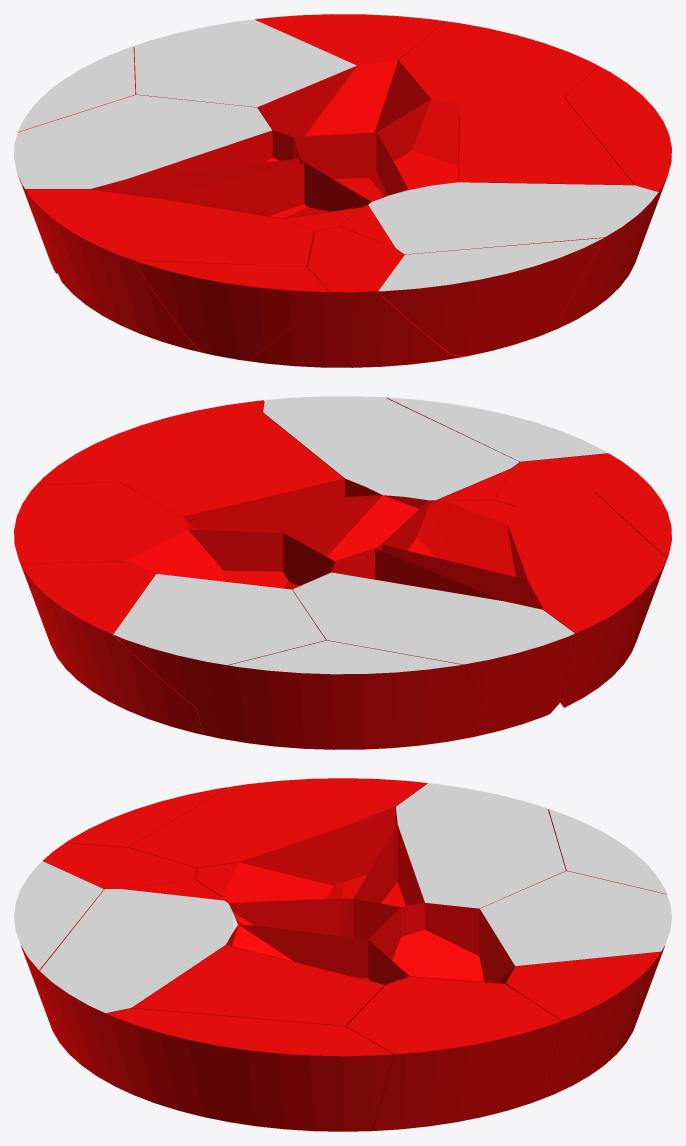
The model's file is Board_Red_F.dae.
3 renders of one model, top to bottom at view 1: azimuth 30°, elevation 25°; view 2: azimuth 150°, elevation 25°; view 3: azimuth 270°, elevation 25°, orthographic.
Parts seen in each view (by area): view 1: Board_Red_cell.019, Board_Red_cell.017, Board_Red_cell.002, Board_Red_cell.008, Board_Red_cell.009, Board_Red_cell.026, Board_Red_cell.018, Board_Red_cell.023, Board_Red_cell.004, Board_Red_cell.014, Board_Red_cell.012, Board_Red_cell.006 (+8 smaller); view 2: Board_Red_cell.021, Board_Red_cell.008, Board_Red_cell.019, Board_Red_cell.026, Board_Red_cell.017, Board_Red_cell.005, Board_Red_cell.023, Board_Red_cell.004, Board_Red_cell.014, Board_Red_cell.012, Board_Red_cell.006, Board_Red_cell.002 (+8 smaller); view 3: Board_Red_cell.012, Board_Red_cell.004, Board_Red_cell.017, Board_Red_cell.008, Board_Red_cell.019, Board_Red_cell.026, Board_Red_cell.023, Board_Red_cell.005, Board_Red_cell.014, Board_Red_cell.006, Board_Red_cell.002, Board_Red_cell (+8 smaller).
Part boxes in pixels (box(x1,y1,x2,y2)): Board_Red_cell.019: box(25, 189, 314, 352); Board_Red_cell.017: box(368, 182, 658, 331); Board_Red_cell.002: box(378, 238, 603, 356); Board_Red_cell.008: box(14, 94, 272, 272); Board_Red_cell.009: box(247, 226, 451, 367); Board_Red_cell.026: box(134, 19, 356, 107); Board_Red_cell.018: box(134, 260, 328, 360); Board_Red_cell.023: box(458, 98, 633, 185); Board_Red_cell.004: box(398, 21, 598, 125); Board_Red_cell.014: box(257, 60, 430, 137); Board_Red_cell.012: box(565, 66, 671, 287); Board_Red_cell.006: box(159, 163, 370, 218); Board_Red_cell.021: box(196, 640, 494, 749); Board_Red_cell.008: box(292, 572, 574, 731); Board_Red_cell.019: box(508, 492, 666, 707); Board_Red_cell.026: box(113, 574, 325, 707); Board_Red_cell.017: box(263, 396, 519, 500); Board_Red_cell.005: box(21, 561, 204, 734); Board_Red_cell.023: box(119, 413, 343, 517); Board_Red_cell.004: box(14, 482, 188, 650); Board_Red_cell.014: box(126, 530, 334, 589); Board_Red_cell.012: box(36, 400, 264, 485); Board_Red_cell.006: box(382, 500, 526, 580); Board_Red_cell.002: box(386, 397, 608, 462); Board_Red_cell.012: box(106, 1008, 393, 1131); Board_Red_cell.004: box(346, 976, 561, 1130); Board_Red_cell.017: box(40, 889, 237, 1084); Board_Red_cell.008: box(396, 783, 565, 908); Board_Red_cell.019: box(128, 778, 427, 882); Board_Red_cell.026: box(479, 871, 671, 966); Board_Red_cell.023: box(132, 945, 384, 1025); Board_Red_cell.005: box(505, 952, 661, 1098); Board_Red_cell.014: box(369, 903, 514, 983); Board_Red_cell.006: box(223, 827, 342, 903); Board_Red_cell.002: box(14, 861, 103, 1037); Board_Red_cell: box(226, 925, 408, 1019).
Bounding box in the file's own units: 2 × 2 × 0.3.
